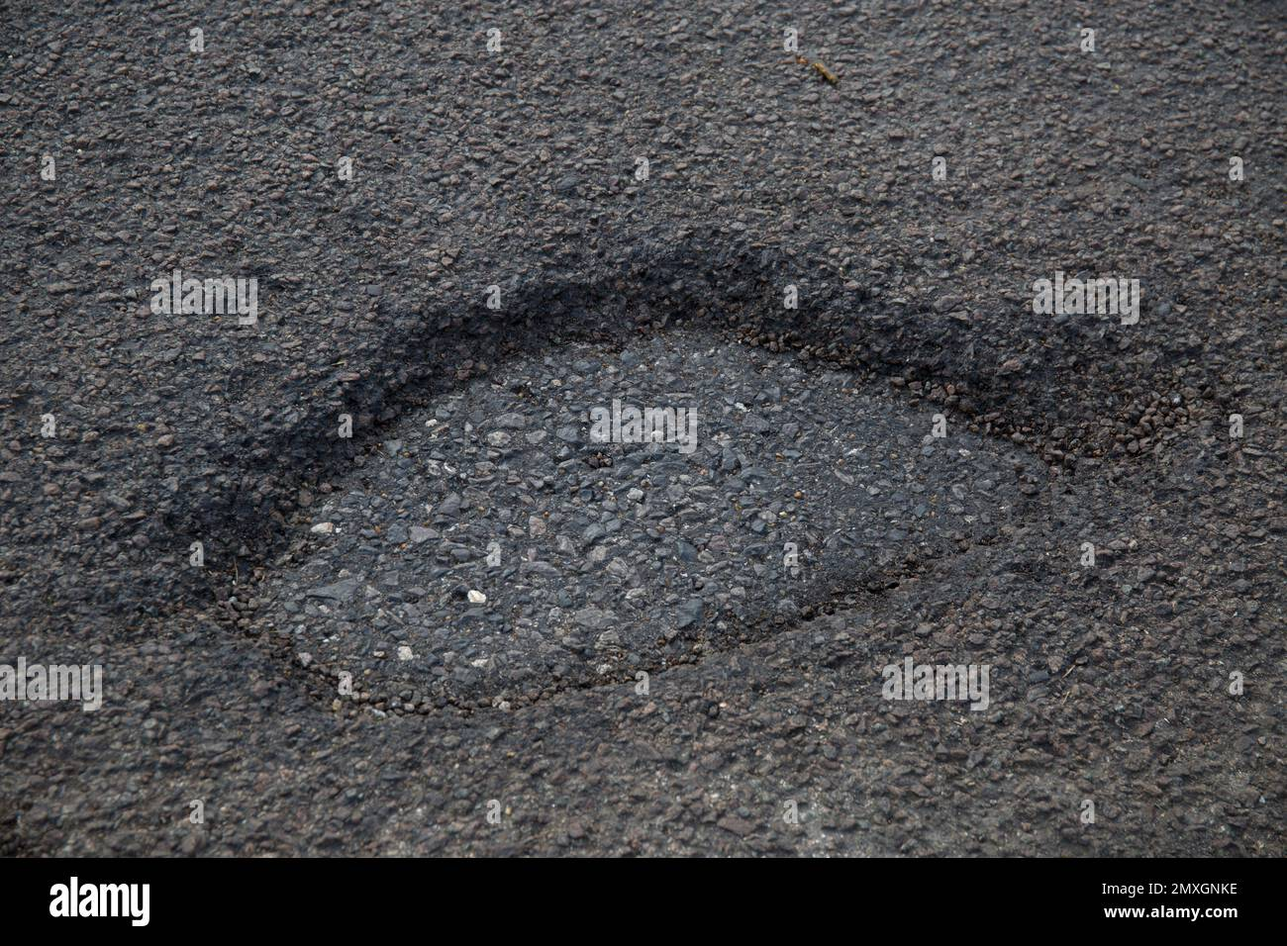Hole_in_the_road: (120, 223, 1128, 706)
